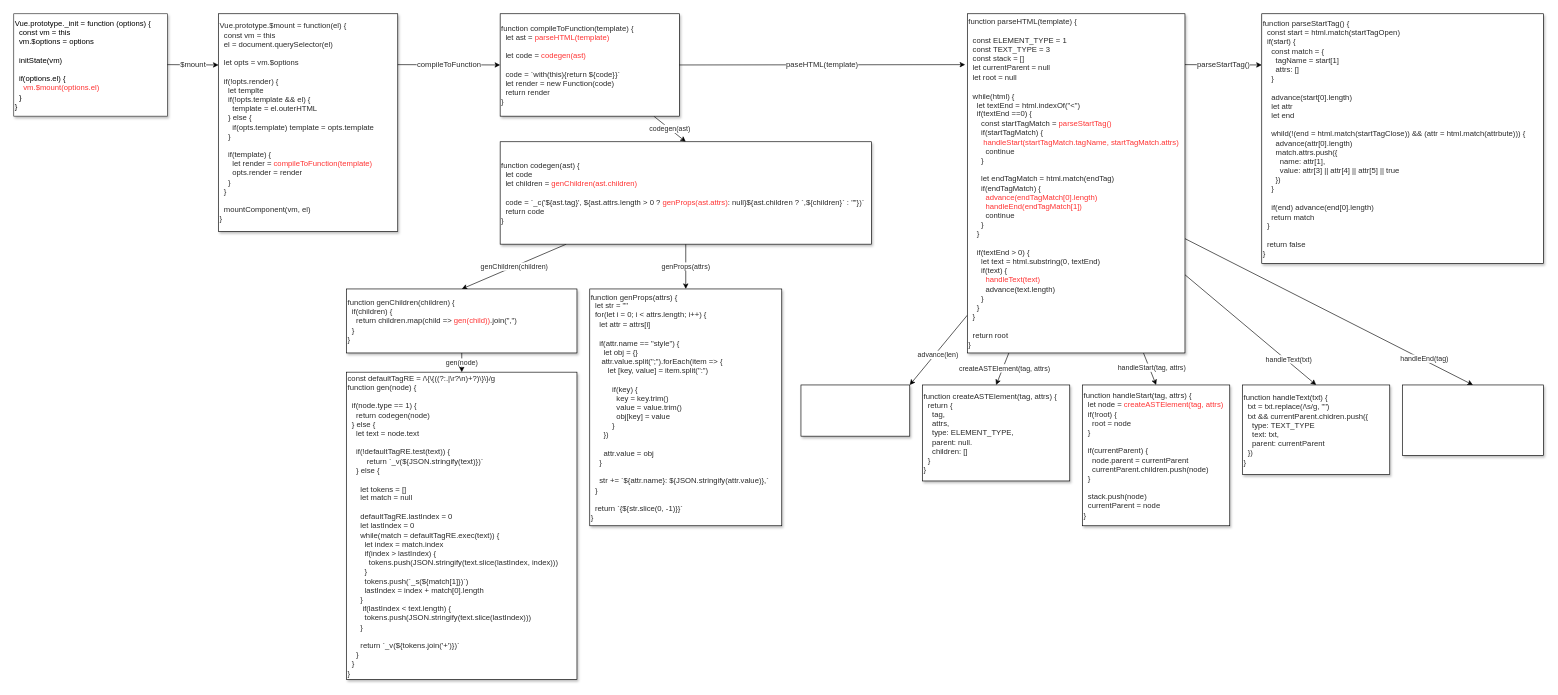
Image size: 1558x695. Some labels were removed from this diagram. Each missing label, with the centre of its shape:
"function advance(len) { html = html.substring(len) }" goes at [856,411].
"function handleEnd(tag) { stack.pop() currentParent = stack[stack.length - 1] }" goes at [1473,421].
